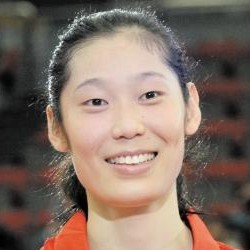unmask: (55, 40, 192, 208)
